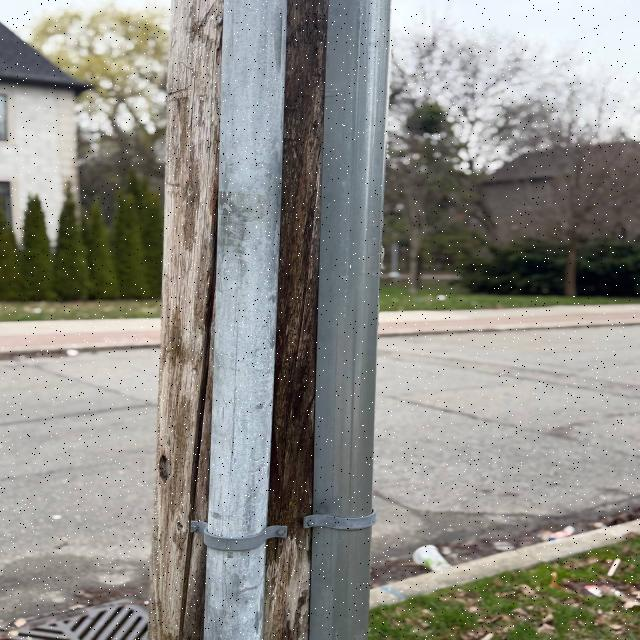Electrical Pole: (138, 2, 404, 640)
